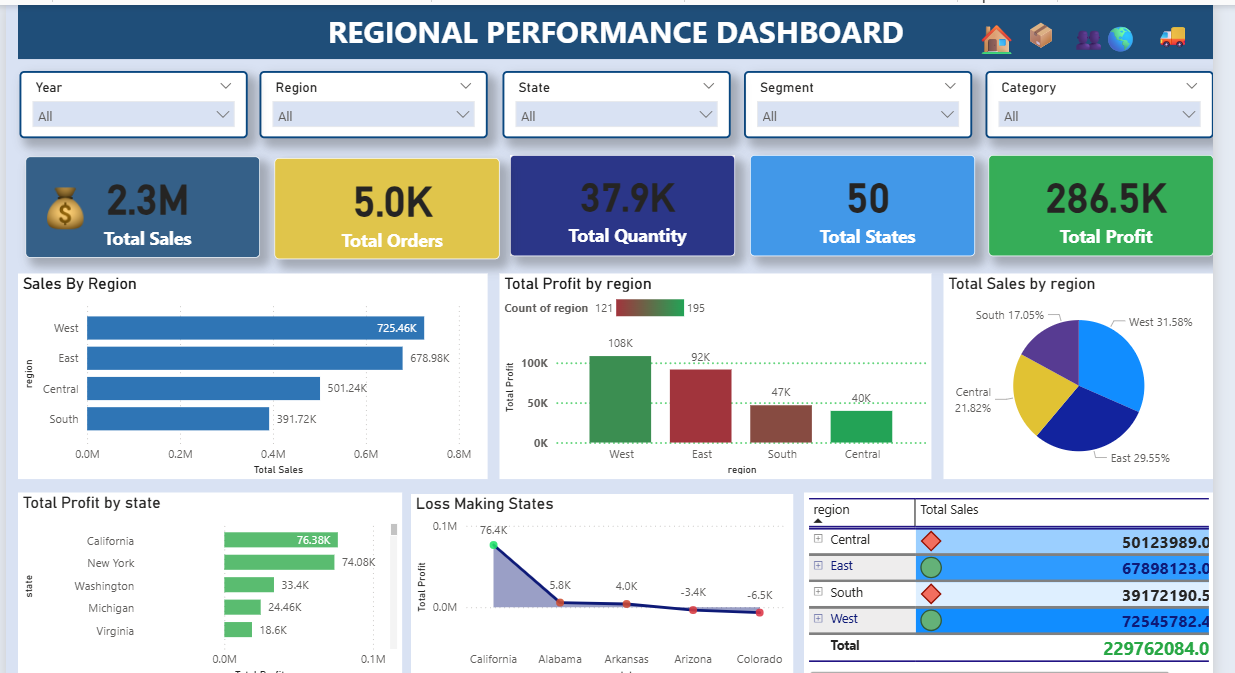

Layout of this report page (visuals, bound fields, positions):
{"tool":"powerbi","page":{"name":"REGIONAL PERFORMANCE ","canvas":[1280,720],"ordinal":3},"visuals":[{"type":"textbox","box":[12.7,0,1267.7,57.3],"z":0},{"type":"card","fields":{"Values":["Measures (2).Total States"]},"box":[789.4,159.1,238.8,107.1],"z":0,"group":"g4"},{"type":"card","fields":{"Values":["Measures (2).Total Quantity"]},"box":[534.8,159.2,238.8,107.1],"z":0,"group":"g3"},{"type":"card","fields":{"Values":["Measures (2).Total Profit"]},"box":[1041.6,159.7,238.8,107.1],"z":0,"group":"g5"},{"type":"card","fields":{"Values":["Measures (2).Total Sales"]},"box":[20.7,160.9,248.4,107.1],"z":0,"group":"g2"},{"type":"card","fields":{"Values":["Measures (2).Total Orders"]},"box":[285.1,161.7,238.8,107.1],"z":0,"group":"g6"},{"type":"slicer","fields":{"Values":["fact_sales.region"]},"box":[268.8,70,241.8,71.6],"z":1000},{"type":"image","box":[30.3,179.8,65,70.9],"z":1000,"group":"g2"},{"type":"slicer","fields":{"Values":["dim_date.year"]},"box":[14.3,70,241.8,71.6],"z":2000},{"type":"slicer","fields":{"Values":["dim_product.category"]},"box":[1038.7,70,241.8,71.6],"z":3000},{"type":"slicer","fields":{"Values":["dim_customer.segment"]},"box":[782.6,70,241.8,71.6],"z":4000},{"type":"slicer","fields":{"Values":["dim_location.state"]},"box":[526.5,70,241.8,71.6],"z":5000},{"type":"group","id":"g1","title":"Group 2","box":[20.7,159.1,1259.8,109.8],"z":6000},{"type":"group","id":"g2","title":"Group 1","box":[20.7,160.9,248.4,107.1],"z":6000,"group":"g1"},{"type":"group","id":"g3","title":"Group 1","box":[534.8,159.2,238.8,107.1],"z":7000,"group":"g1"},{"type":"group","id":"g4","title":"Group 1","box":[789.4,159.1,238.8,107.1],"z":8000,"group":"g1"},{"type":"group","id":"g5","title":"Group 1","box":[1041.6,159.7,238.8,107.1],"z":9000,"group":"g1"},{"type":"clusteredBarChart","title":"Sales By Region","fields":{"Y":["Measures (2).Total Sales"],"Category":["dim_location.region"]},"box":[12.7,284.7,497.9,217.9],"z":9000},{"type":"clusteredColumnChart","fields":{"Category":["dim_location.region"],"Y":["Measures (2).Total Profit"]},"box":[523.3,284.7,458.1,217.9],"z":10000},{"type":"group","id":"g6","title":"Group 1","box":[285.1,161.7,238.8,107.1],"z":11000,"group":"g1"},{"type":"clusteredBarChart","fields":{"Category":["dim_location.state"],"Y":["Measures (2).Total Profit"]},"box":[12.7,516.9,407.2,203.6],"z":11000},{"type":"areaChart","title":"Loss Making States","fields":{"Category":["dim_location.state"],"Y":["Measures (2).Total Profit"]},"box":[429.5,518.5,405.6,202],"z":12000},{"type":"pieChart","fields":{"Category":["dim_location.region"],"Y":["Measures (2).Total Sales"]},"box":[994.1,284.7,286.3,217.9],"z":13000},{"type":"pivotTable","title":"Sales Distribution By State","fields":{"Values":["Measures (2).Total Sales"],"Rows":["dim_location.region","dim_product.category"]},"box":[846.2,516.9,434.2,203.6],"z":14000},{"type":"actionButton","box":[1024.4,9.5,50.9,44.8],"z":14001,"group":"g7"},{"type":"actionButton","box":[1075.3,8,50.9,44.8],"z":14002,"group":"g7"},{"type":"actionButton","box":[1126.2,11,52.5,41.8],"z":14003,"group":"g7"},{"type":"actionButton","box":[1159.6,11,49.3,46.3],"z":14004,"group":"g7"},{"type":"actionButton","box":[1215.3,8,65.2,44.8],"z":14005,"group":"g7"},{"type":"group","id":"g7","title":"Group 3","box":[1024.4,8,256.1,49.3],"z":14006}]}

Visuals, with their boxes on the page's 1280x720 design canvas (x1, y1, x2, y2). These are canvas units, not pixel positions in the 1235x673 screenshot, which may show the page scaled, cropped or inside an application window:
textbox: l=13, t=0, r=1280, b=57
card - Measures (2).Total States: l=789, t=159, r=1028, b=266
card - Measures (2).Total Quantity: l=535, t=159, r=774, b=266
card - Measures (2).Total Profit: l=1042, t=160, r=1280, b=267
card - Measures (2).Total Sales: l=21, t=161, r=269, b=268
card - Measures (2).Total Orders: l=285, t=162, r=524, b=269
slicer - fact_sales.region: l=269, t=70, r=511, b=142
image: l=30, t=180, r=95, b=251
slicer - dim_date.year: l=14, t=70, r=256, b=142
slicer - dim_product.category: l=1039, t=70, r=1280, b=142
slicer - dim_customer.segment: l=783, t=70, r=1024, b=142
slicer - dim_location.state: l=526, t=70, r=768, b=142
"Group 2" group: l=21, t=159, r=1280, b=269
"Group 1" group: l=21, t=161, r=269, b=268
"Group 1" group: l=535, t=159, r=774, b=266
"Group 1" group: l=789, t=159, r=1028, b=266
"Group 1" group: l=1042, t=160, r=1280, b=267
"Sales By Region" clusteredBarChart: l=13, t=285, r=511, b=503
clusteredColumnChart - dim_location.region x Measures (2).Total Profit: l=523, t=285, r=981, b=503
"Group 1" group: l=285, t=162, r=524, b=269
clusteredBarChart - dim_location.state x Measures (2).Total Profit: l=13, t=517, r=420, b=720
"Loss Making States" areaChart: l=430, t=518, r=835, b=720
pieChart - dim_location.region x Measures (2).Total Sales: l=994, t=285, r=1280, b=503
"Sales Distribution By State" pivotTable: l=846, t=517, r=1280, b=720
actionButton: l=1024, t=10, r=1075, b=54
actionButton: l=1075, t=8, r=1126, b=53
actionButton: l=1126, t=11, r=1179, b=53
actionButton: l=1160, t=11, r=1209, b=57
actionButton: l=1215, t=8, r=1280, b=53
"Group 3" group: l=1024, t=8, r=1280, b=57
